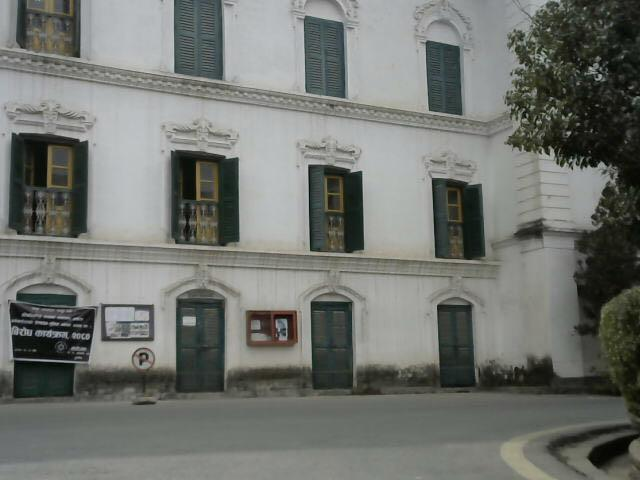Building: (0, 1, 601, 397)
Road: (0, 399, 638, 480)
Traffic sign: (122, 345, 174, 410)
Tree: (505, 6, 640, 173)
